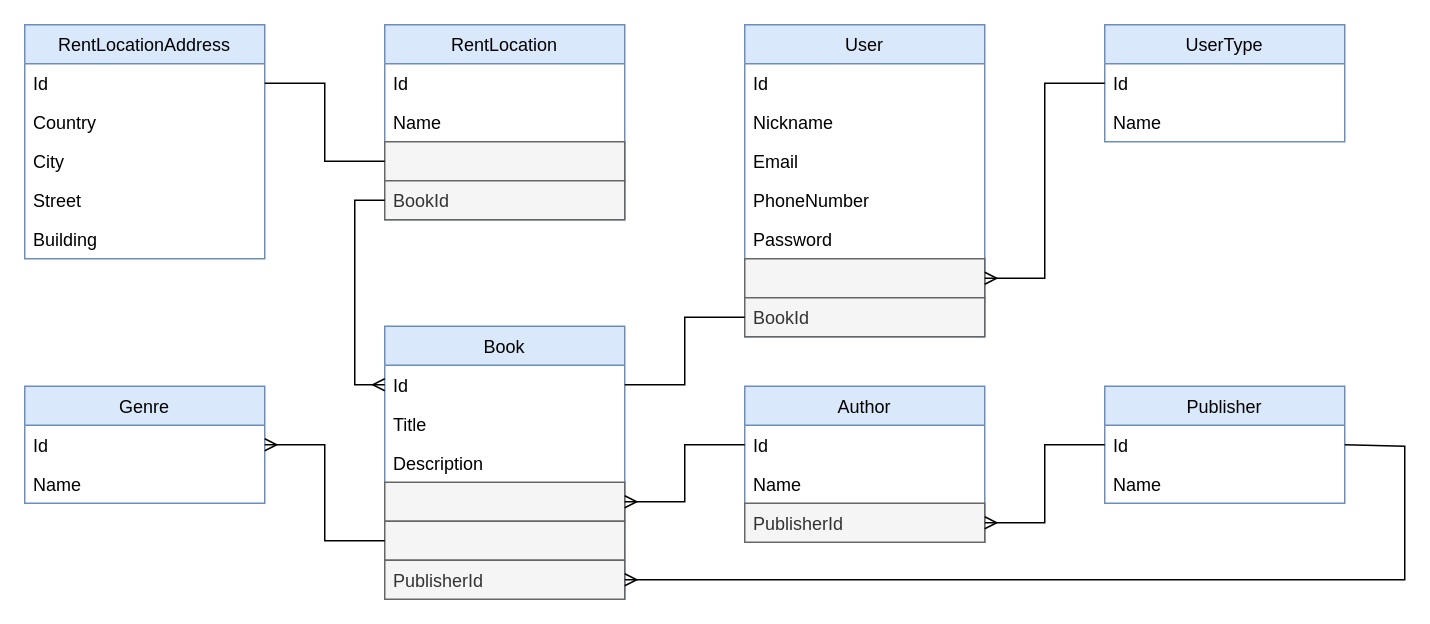
Some shapes in this 1430 by 624 pixel diagram are drawn without their labels. Here are the shapes that lost their labels. From the top down, the centre of each, then its label:
pixel 504 160: RentLocationAddressId
pixel 864 277: UserTypeId
pixel 504 501: AuthorId
pixel 504 540: GenreId
